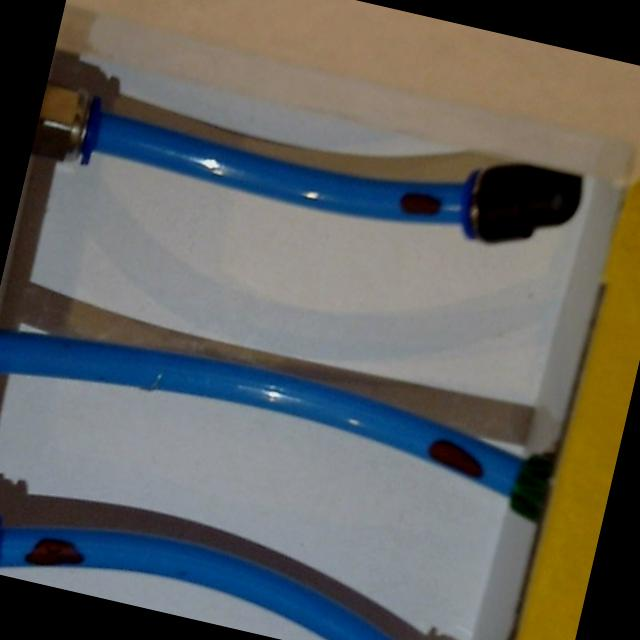hose_damage: (418, 432, 496, 491), (23, 528, 96, 578), (395, 186, 446, 222)
